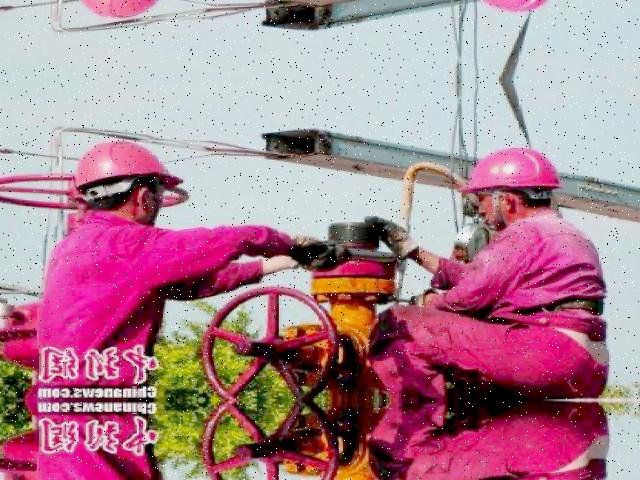Helmet: (68, 138, 190, 202), (458, 142, 566, 205)
